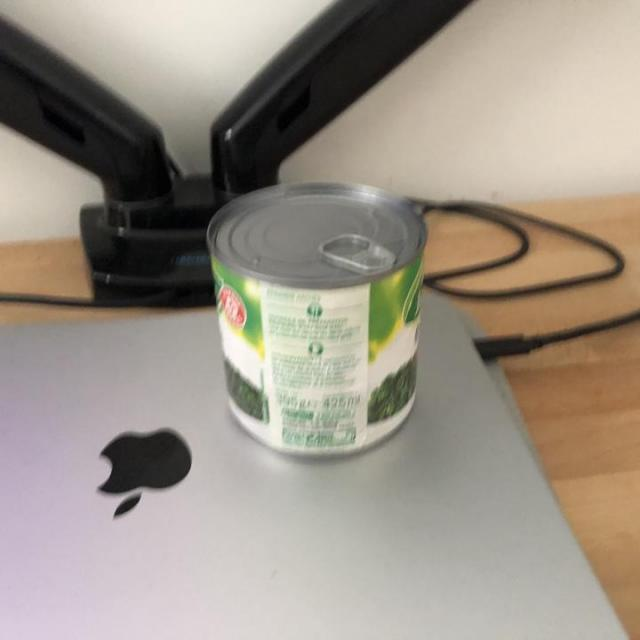recyclable: (206, 173, 429, 463)
